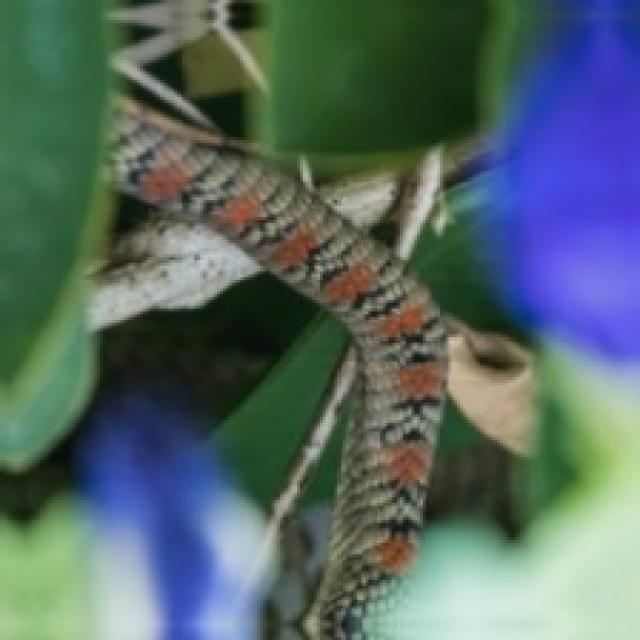paradise tree snake: (114, 100, 443, 637)
